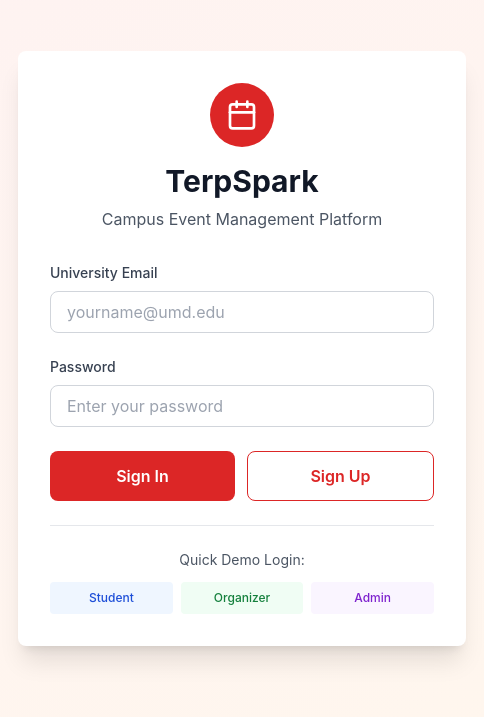
Scenario: LoginPage › displays error message when login fails
The width and height of the screenshot is (484, 717).
Type "user@umd.edu" into the field labelled "University Email" at point(242, 312), box [50,290,434,332]
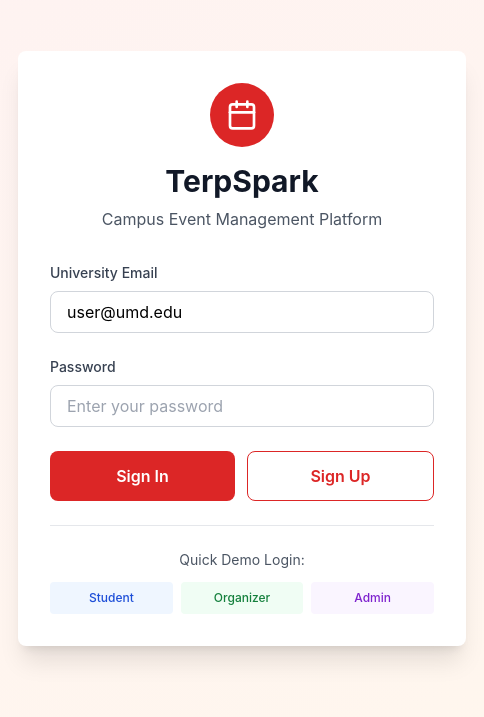
Type "password" into the password field labelled "Password" at point(242, 406), box [50,384,434,426]
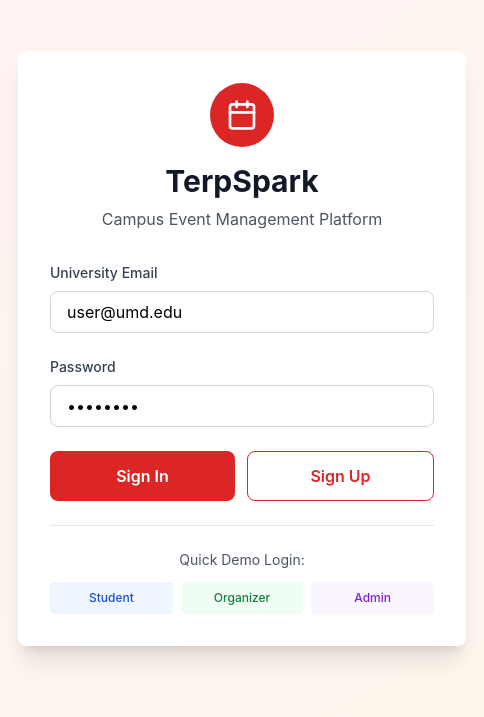
Click the button "Sign In" at point(142, 476), box [50,450,235,500]
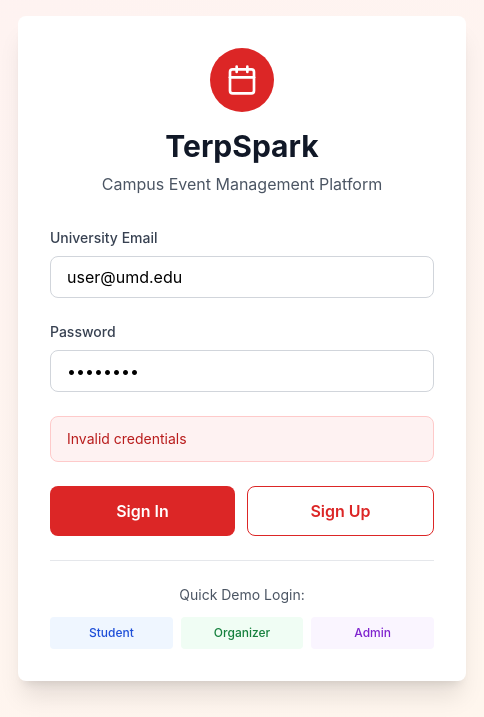
Now the text "Invalid credentials" is shown, box [50,416,434,462]
